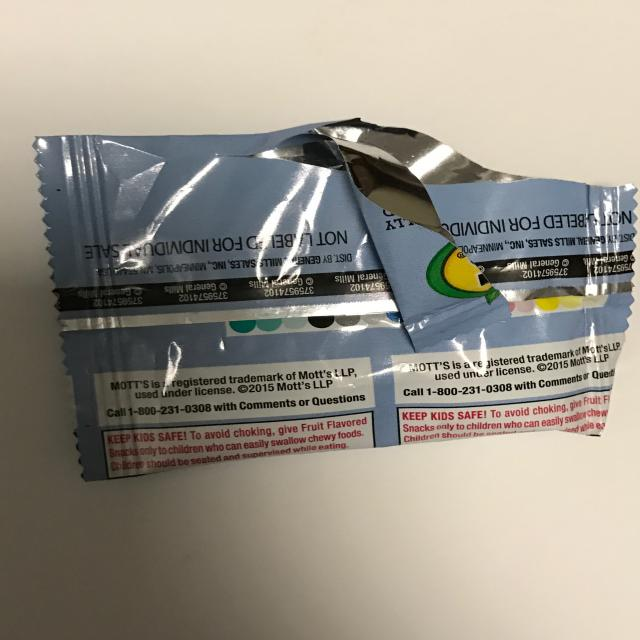Plastic: (25, 97, 640, 490)
